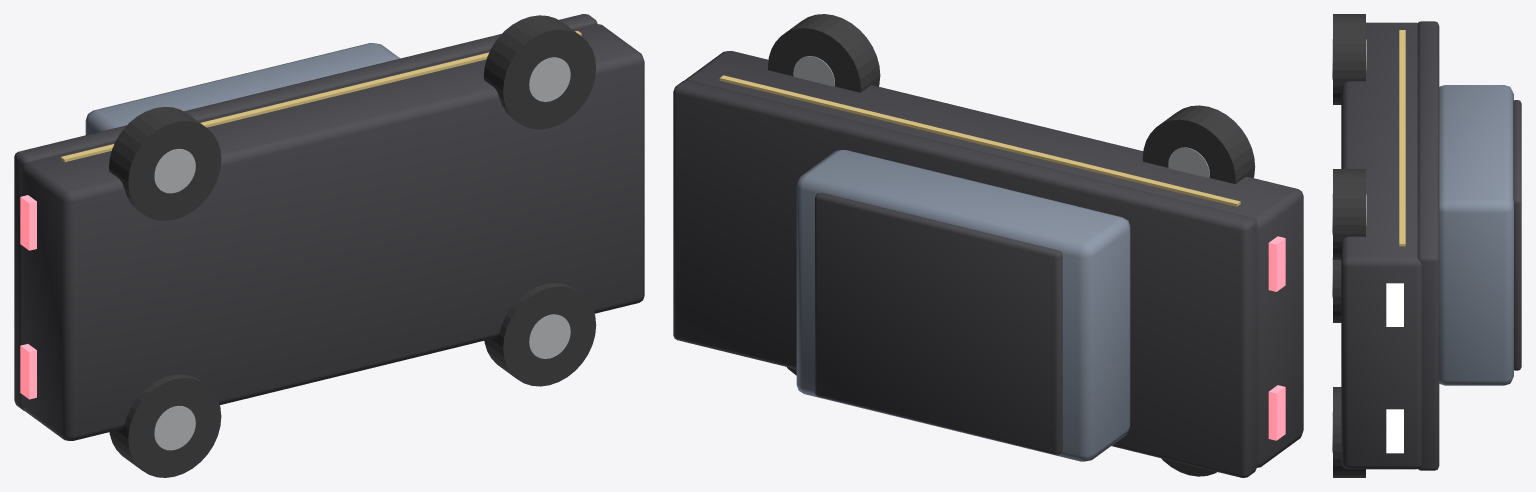
File: sedan.glb
3 renders of one model, left to right at view 1: azimuth 30°, elevation 25°; view 2: azimuth 150°, elevation 25°; view 3: azimuth 270°, elevation 25°, orthographic. The views are drawn at different scales.
Visible parts, largest first — view 1: SedanLower, Wheel, Wheel.002, SedanBelt, SedanCabin, Wheel.001, Wheel.003, SideTrim, Hub, Hub.001, Hub.003, Hub.002 (+2 smaller); view 2: SedanBelt, SedanRoof, SedanCabin, SedanLower, Wheel.002, Wheel, SideTrim, TaillightL, TaillightR, Hub.002, Hub; view 3: SedanLower, SedanCabin, SedanBelt, Wheel, Wheel.002, SedanRoof, SideTrim, Wheel.001, HeadlightR, HeadlightL, Wheel.003.
Part boxes in pixels (x1=…): SedanLower: x1=21, y1=23, x2=644, y2=440; Wheel: x1=483, y1=15, x2=596, y2=129; Wheel.002: x1=109, y1=107, x2=221, y2=220; SedanBelt: x1=14, y1=14, x2=597, y2=410; SedanCabin: x1=85, y1=43, x2=400, y2=134; Wheel.001: x1=484, y1=283, x2=596, y2=386; Wheel.003: x1=109, y1=374, x2=221, y2=477; SideTrim: x1=60, y1=31, x2=581, y2=162; Hub: x1=529, y1=57, x2=570, y2=101; Hub.001: x1=529, y1=314, x2=570, y2=358; Hub.003: x1=154, y1=406, x2=195, y2=450; Hub.002: x1=154, y1=148, x2=195, y2=193; SedanBelt: x1=673, y1=80, x2=1256, y2=477; SedanRoof: x1=815, y1=192, x2=1062, y2=454; SedanCabin: x1=796, y1=150, x2=1130, y2=461; SedanLower: x1=684, y1=51, x2=1303, y2=467; Wheel.002: x1=1142, y1=105, x2=1255, y2=184; Wheel: x1=768, y1=14, x2=880, y2=92; SideTrim: x1=719, y1=75, x2=1240, y2=206; TaillightL: x1=1268, y1=236, x2=1285, y2=291; TaillightR: x1=1268, y1=385, x2=1285, y2=440; Hub.002: x1=1168, y1=147, x2=1209, y2=177; Hub: x1=793, y1=56, x2=834, y2=86; SedanLower: x1=1341, y1=22, x2=1421, y2=469; SedanCabin: x1=1439, y1=85, x2=1513, y2=385; SedanBelt: x1=1417, y1=21, x2=1439, y2=470; Wheel: x1=1333, y1=169, x2=1365, y2=259; Wheel.002: x1=1333, y1=14, x2=1365, y2=104; SedanRoof: x1=1513, y1=100, x2=1521, y2=370; SideTrim: x1=1399, y1=30, x2=1405, y2=246; Wheel.001: x1=1333, y1=387, x2=1365, y2=477; HeadlightR: x1=1386, y1=409, x2=1403, y2=453; HeadlightL: x1=1386, y1=283, x2=1403, y2=326; Wheel.003: x1=1333, y1=260, x2=1341, y2=322.
Size of the model in its own units: 4.63 by 2.62 by 1.5.
